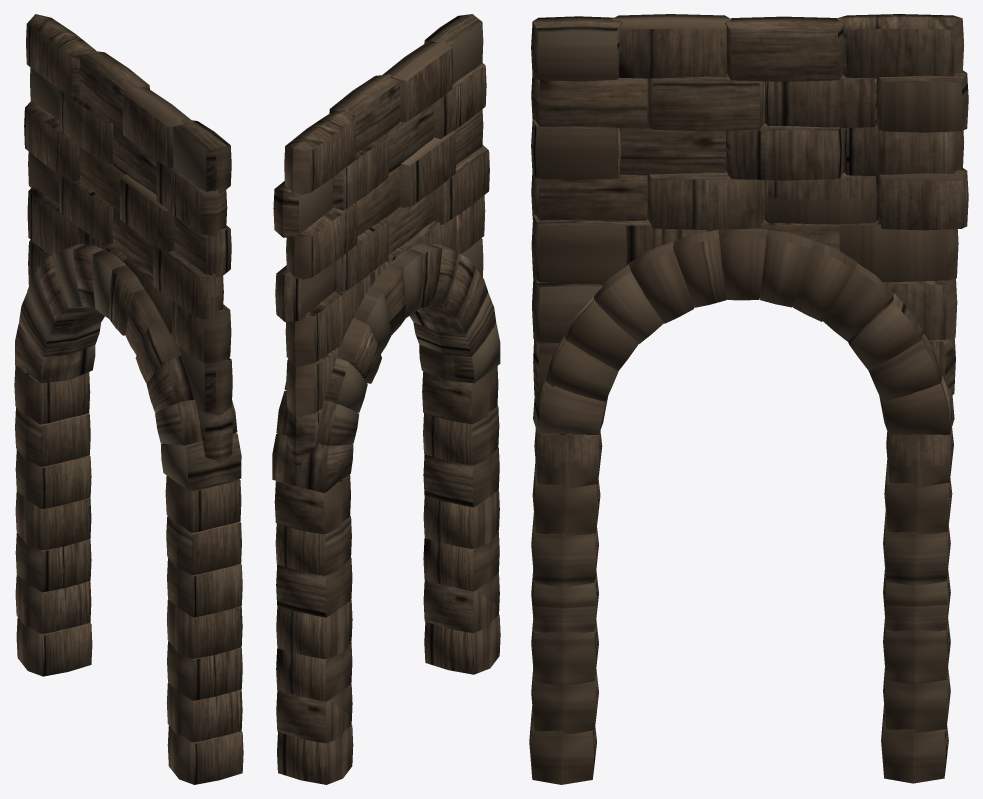
The model's file is Arco_Puerta.fbx.
3 views of the same model, side by side, from view 1: azimuth 30°, elevation 25°; view 2: azimuth 150°, elevation 25°; view 3: azimuth 270°, elevation 25° (orthographic). The views are drawn at different scales.
Parts seen in each view (by area): view 1: Object135; view 2: Object135; view 3: Object135.
Boxes of the visible parts, x1=… form: Object135: x1=14, y1=14, x2=243, y2=784; Object135: x1=272, y1=14, x2=500, y2=784; Object135: x1=529, y1=14, x2=968, y2=784.
Size of the model in its own units: 69.65 by 664 by 351.
